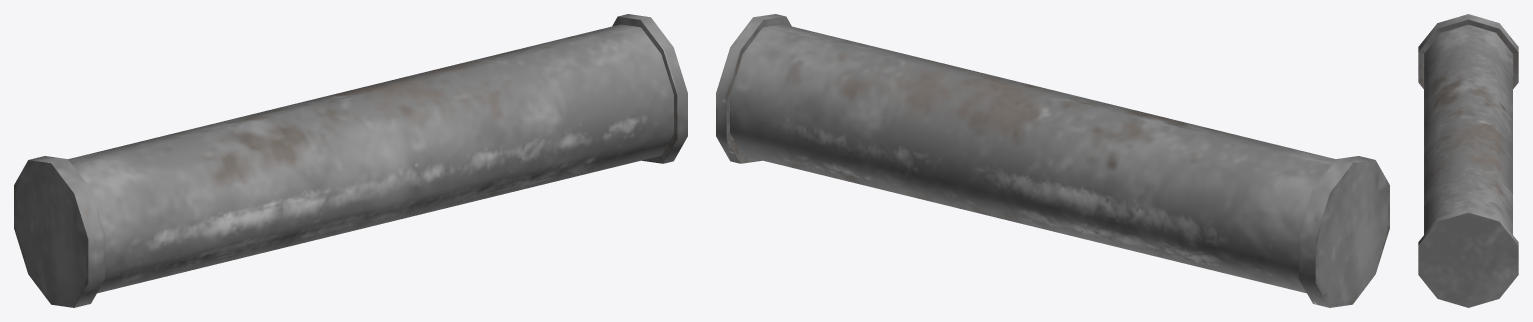
The model's file is straightPipeV2.fbx.
3 views of the same model, side by side, from view 1: azimuth 30°, elevation 25°; view 2: azimuth 150°, elevation 25°; view 3: azimuth 270°, elevation 25° (orthographic). The views are drawn at different scales.
Parts seen in each view (by area): view 1: straightPipeKit_GEO; view 2: straightPipeKit_GEO; view 3: straightPipeKit_GEO.
Part boxes in pixels (bbox=[...]): straightPipeKit_GEO: bbox=[14, 14, 687, 307]; straightPipeKit_GEO: bbox=[716, 14, 1389, 307]; straightPipeKit_GEO: bbox=[1418, 14, 1518, 307].
Size of the model in its own units: 0.1 by 0.0225 by 0.0214.
